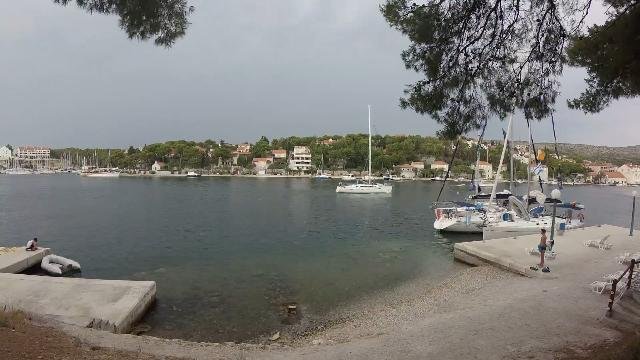Sailboat: (329, 179, 399, 197)
